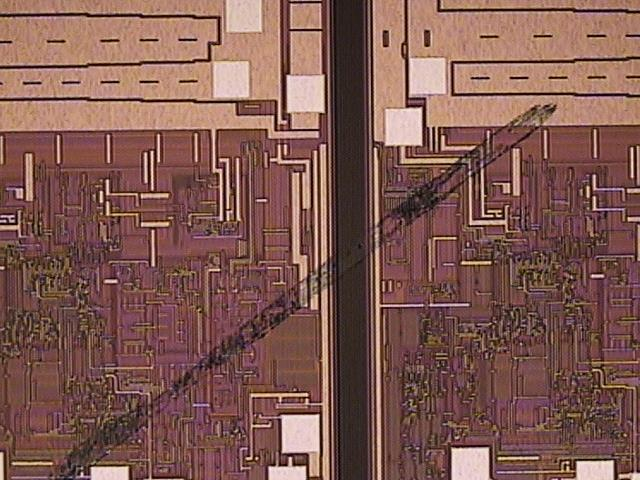SCRATCH: (48, 91, 565, 480)
